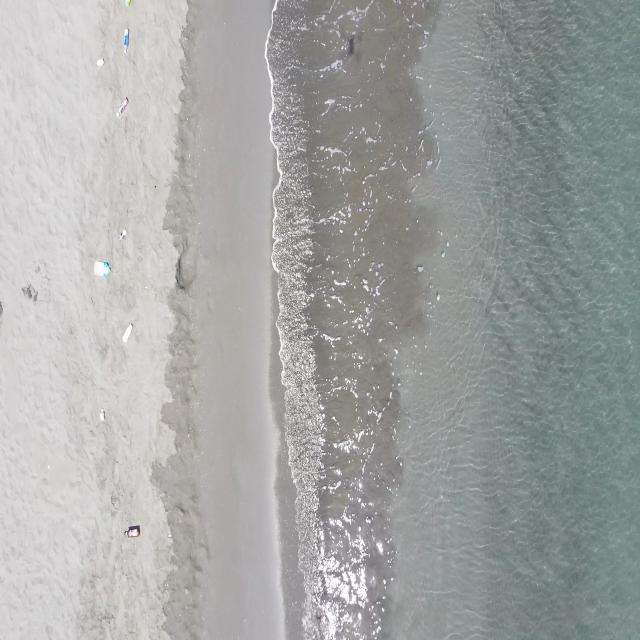Garbage: (20, 283, 35, 300), (116, 96, 128, 116), (95, 260, 110, 276), (121, 323, 131, 342), (123, 524, 139, 535), (124, 28, 128, 52), (96, 56, 103, 65), (120, 227, 125, 239), (416, 263, 423, 271), (100, 407, 104, 420), (123, 0, 131, 5), (435, 292, 439, 300), (0, 301, 2, 316)
